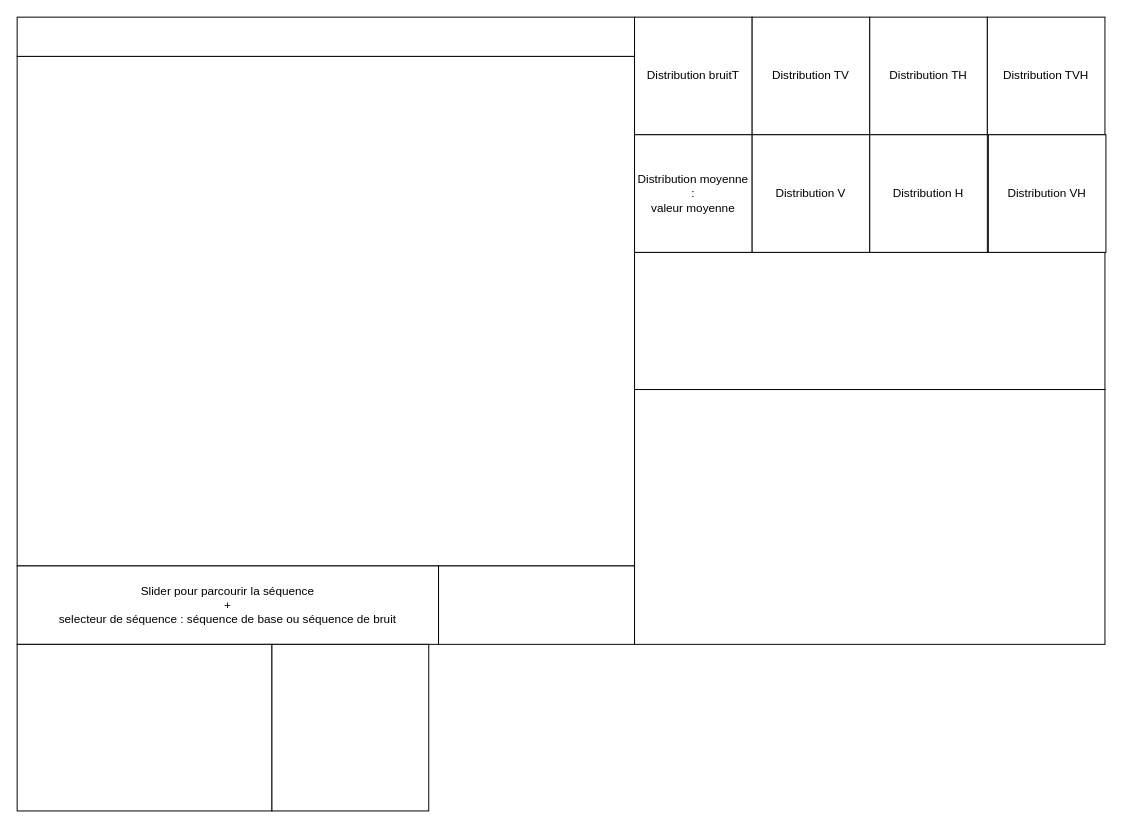
Some shapes in this 1123 by 828 pixel diagram are drawn without their labels. The shapes that lost their labels are listed below. From the top down, each one's box as (x1, y1, x2, y2) in pixels, then its label:
(16, 16, 635, 56): Chemin vers séquence : AAaAAAAAAAAAAAAaAAaAAAAAAAAAAAAaAAaAAAAAAAAAAAAa
(16, 55, 635, 566): Images séquence
(634, 251, 1105, 390): Résultats des mesures de bruit :
(438, 565, 635, 644): Color picker : picker T, V, H valeur du pixel sélectioné
(16, 643, 272, 811): Carte de masque
